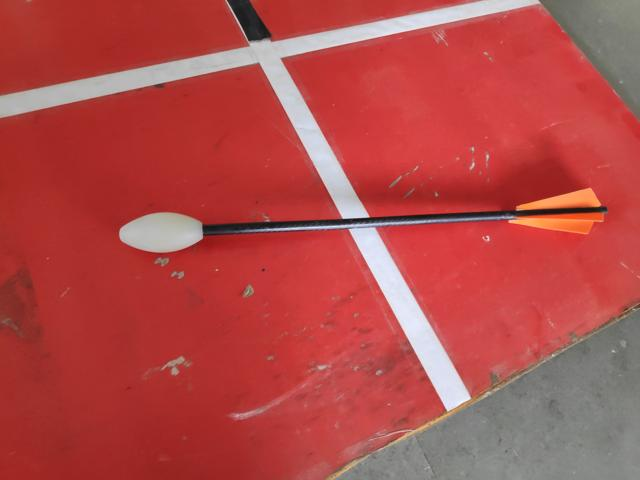Head: (116, 209, 211, 256)
Tail: (504, 181, 610, 238)
